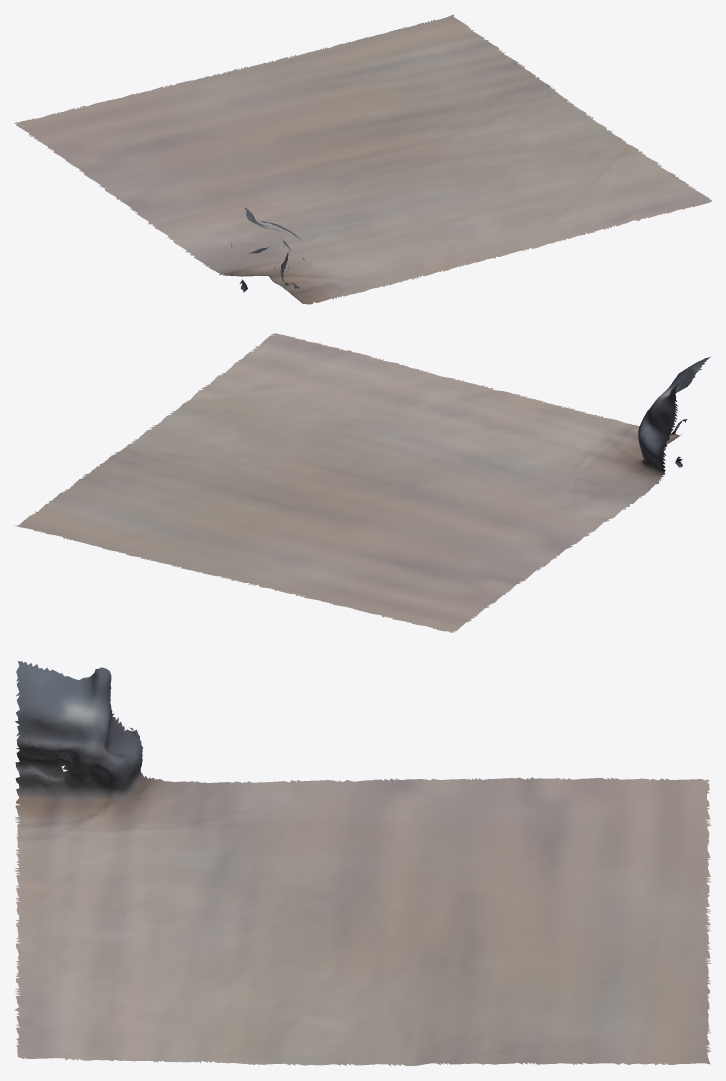
Rendered from apartment-full-101-3d85e04c55d7.glb.
The picture shows the model from 3 angles, top to bottom: view 1: azimuth 30°, elevation 25°; view 2: azimuth 150°, elevation 25°; view 3: azimuth 270°, elevation 25°; orthographic projection. The views are drawn at different scales.
Bounding box in the file's own units: 1.26 × 0.248 × 1.29.
